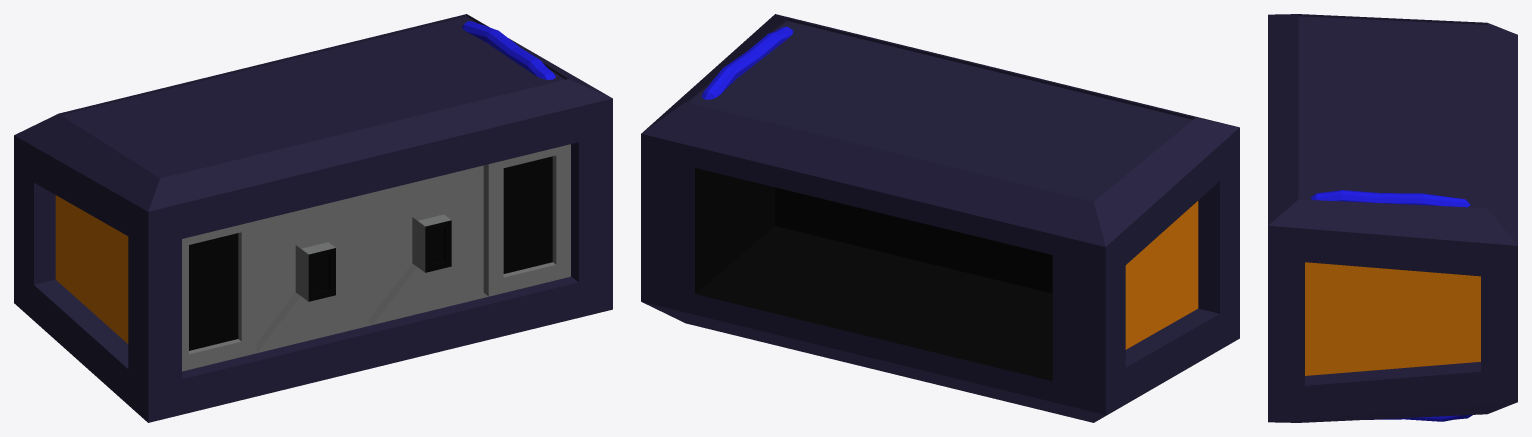
File: CoolerBody.glb
3 views of the same model, side by side, from view 1: azimuth 30°, elevation 25°; view 2: azimuth 150°, elevation 25°; view 3: azimuth 270°, elevation 25° (orthographic). The views are drawn at different scales.
Parts seen in each view (by area): view 1: Cooler, Cylinder; view 2: Cooler, Cylinder; view 3: Cooler, Cylinder, Cylinder.001.
Part boxes in pixels (<box>): Cooler: <box>14,14,612,422</box>; Cylinder: <box>462,21,555,79</box>; Cooler: <box>641,14,1239,422</box>; Cylinder: <box>701,26,793,99</box>; Cooler: <box>1268,14,1517,422</box>; Cylinder: <box>1310,190,1470,207</box>; Cylinder.001: <box>1367,415,1472,421</box>.
Bounding box in the file's own units: 1 × 0.5084 × 0.5.
